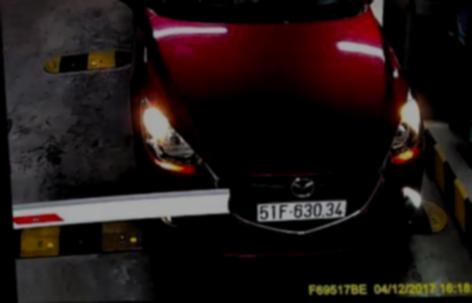License_Plate: (251, 194, 354, 225)
